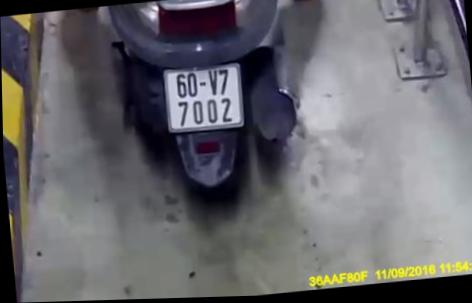LP: (162, 62, 246, 136)
